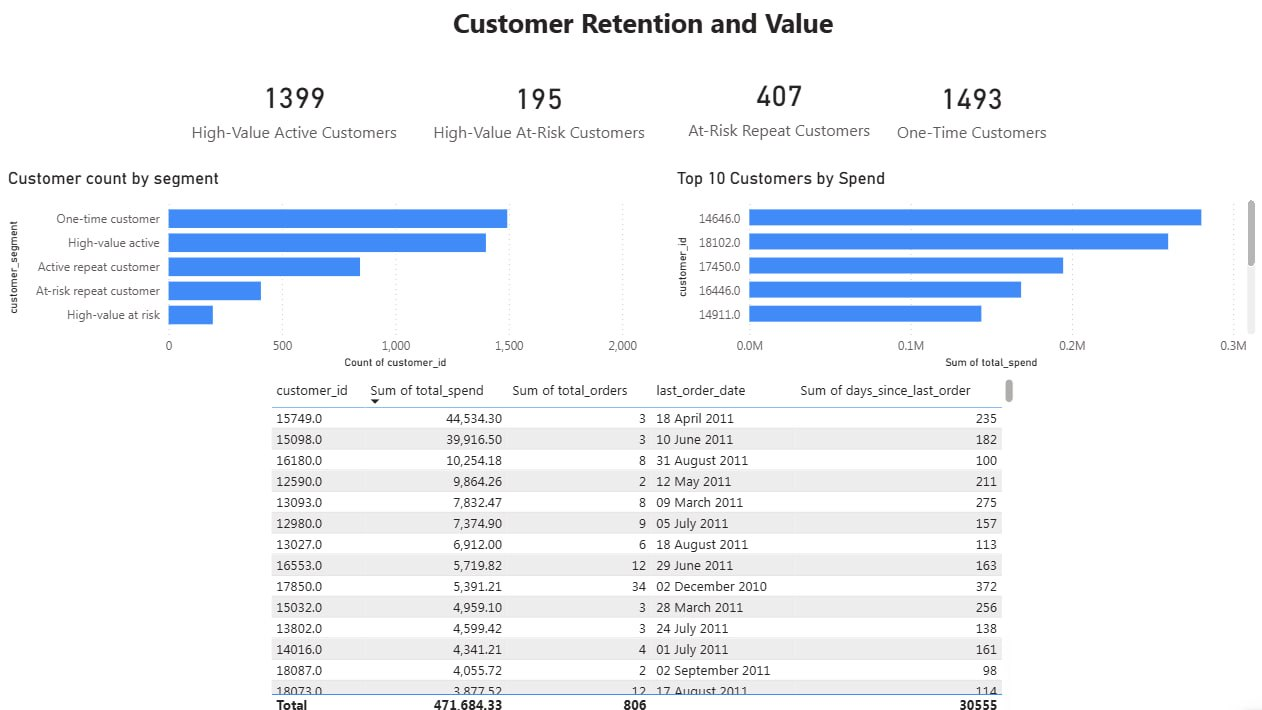

Layout of this report page (visuals, bound fields, positions):
{"tool":"powerbi","page":{"name":"Customer Retention","canvas":[1280,720],"ordinal":1},"visuals":[{"type":"textbox","box":[0,0,1280,65],"z":0},{"type":"textbox","box":[0,45,1280,40],"z":1000},{"type":"card","title":"High-value Active","fields":{"Values":["_Measures.High-Value Active Customers"]},"box":[0,101.7,211.7,83.3],"z":2000},{"type":"card","title":"High-value At Risk","fields":{"Values":["_Measures.High-Value At-Risk Customers"]},"box":[776,102,232,84],"z":3000},{"type":"card","title":"One Time","fields":{"Values":["_Measures.One-Time Customers"]},"box":[250,102,220,84],"z":4000},{"type":"card","title":"Active Repeat","fields":{"Values":["_Measures.Active Repeat Customers"]},"box":[505.7,102.1,228.6,82.9],"z":5000},{"type":"card","title":"At-Risk Repeat","fields":{"Values":["_Measures.At-Risk Repeat Customers"]},"box":[1046,102,234,86],"z":6000},{"type":"clusteredBarChart","fields":{"Category":["public vw_customer_profile.customer_segment"],"Y":["Count(public vw_customer_profile.customer_id)"]},"box":[0,218.3,401.7,208.3],"z":7000},{"type":"clusteredBarChart","title":"Top 5 Customers by Spend","fields":{"Category":["public vw_customer_profile.customer_id"],"Y":["Sum(public vw_customer_profile.total_spend)"]},"box":[11.7,438.3,401.7,266.7],"z":8000},{"type":"tableEx","title":"HIgh-Value At Risk Customers - Retention Call List","fields":{"Values":["public vw_customer_profile.customer_id","Sum(public vw_customer_profile.total_spend)","public vw_customer_profile.total_orders","public vw_customer_profile.last_order_date","public vw_customer_profile.days_since_last_order"]},"box":[525.5,217.6,637.3,486.3],"z":9000}]}

Visuals, with their boxes in screenshot pixels (x1, y1, x2, y2), scaled from the page's 1280x720 canvas onto the 1262x710 screenshot:
textbox: 0/0/1261/64
textbox: 0/44/1261/84
"High-value Active" card: 0/100/209/182
"High-value At Risk" card: 765/101/994/183
"One Time" card: 246/101/463/183
"Active Repeat" card: 499/101/724/182
"At-Risk Repeat" card: 1031/101/1261/185
clusteredBarChart - public vw_customer_profile.customer_segment x Count(public vw_customer_profile.customer_id): 0/215/396/421
"Top 5 Customers by Spend" clusteredBarChart: 12/432/408/695
"HIgh-Value At Risk Customers - Retention Call List" tableEx: 518/215/1146/694
